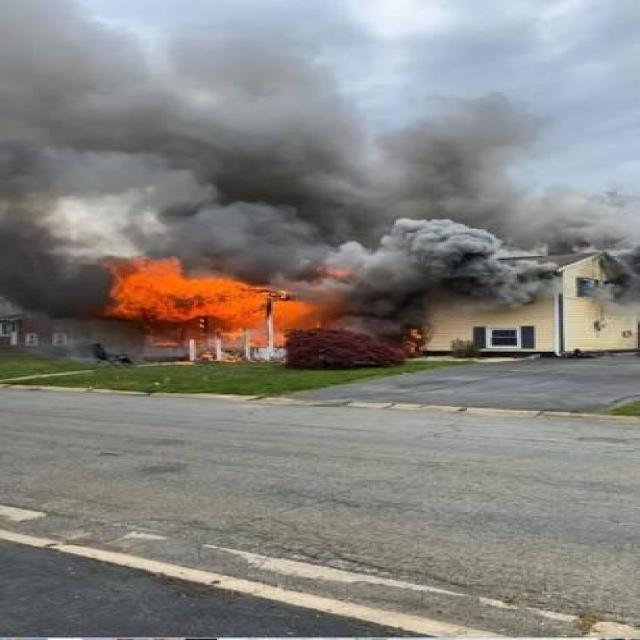Fire: (97, 253, 306, 344)
Smoke: (2, 1, 640, 307)
